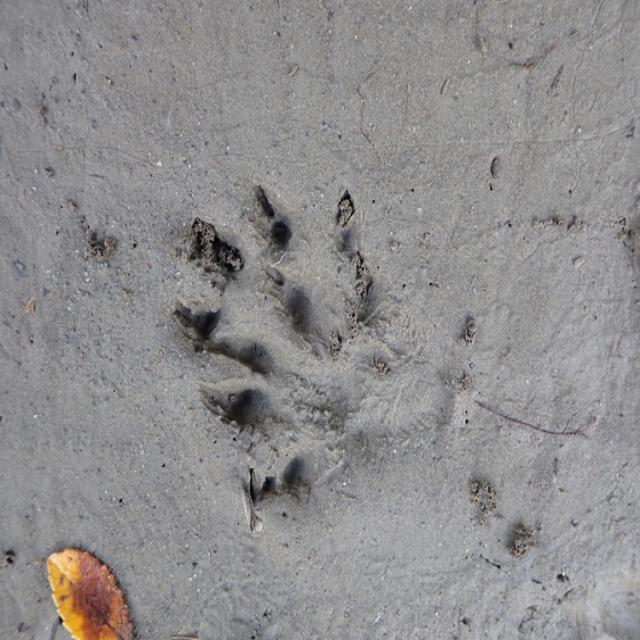mustelid: (184, 181, 400, 525)
